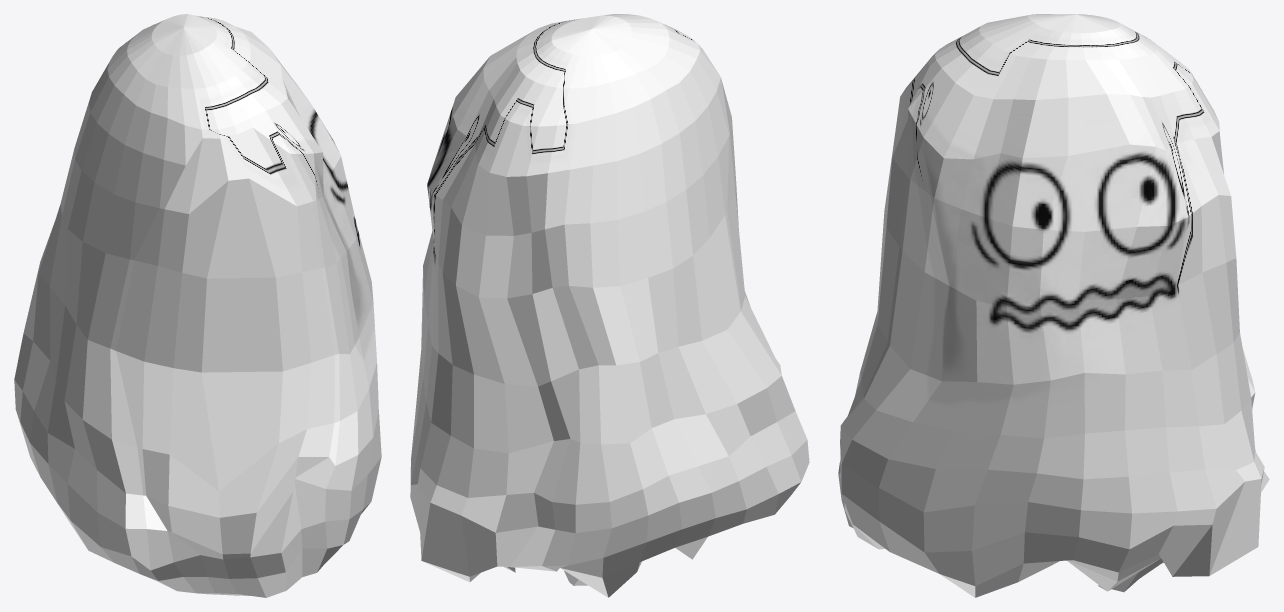
File: ghost.glb
The picture shows the model from 3 angles, left to right: view 1: azimuth 30°, elevation 25°; view 2: azimuth 150°, elevation 25°; view 3: azimuth 270°, elevation 25°; orthographic projection. The views are drawn at different scales.
Parts seen in each view (by area): view 1: 球; view 2: 球; view 3: 球.
Boxes of the visible parts, bbox=[...] form: 球: bbox=[14, 14, 381, 597]; 球: bbox=[410, 14, 809, 597]; 球: bbox=[838, 14, 1269, 597].
Size of the model in its own units: 1.5 by 2.38 by 1.72.
Materials: 1 (1 with a texture image).
